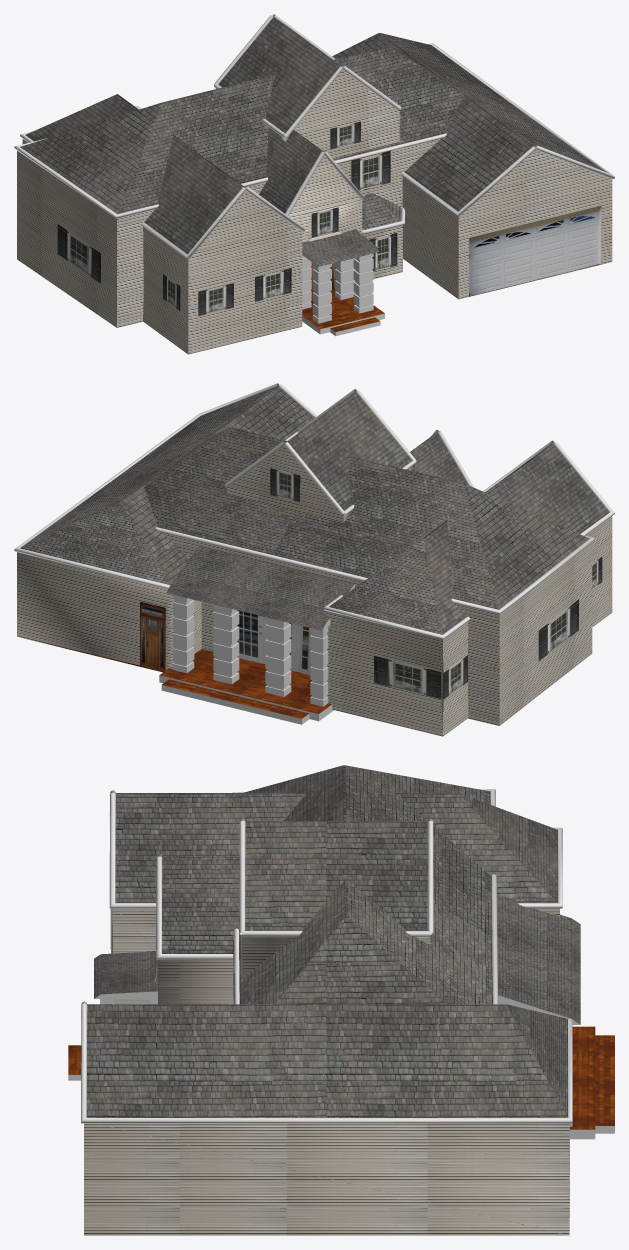
The model's file is asset.glb.
The picture shows the model from 3 angles, top to bottom: view 1: azimuth 30°, elevation 25°; view 2: azimuth 150°, elevation 25°; view 3: azimuth 270°, elevation 25°; orthographic projection. The views are drawn at different scales.
Parts seen in each view (by area): view 1: Country Side House; view 2: Country Side House; view 3: Country Side House.
Part boxes in pixels (box(x1,y1,x2,y2)): Country Side House: box(14, 14, 614, 354); Country Side House: box(14, 383, 614, 736); Country Side House: box(68, 765, 614, 1235).
Size of the model in its own units: 2007 by 885 by 1726.
13 materials, 12 textured.
